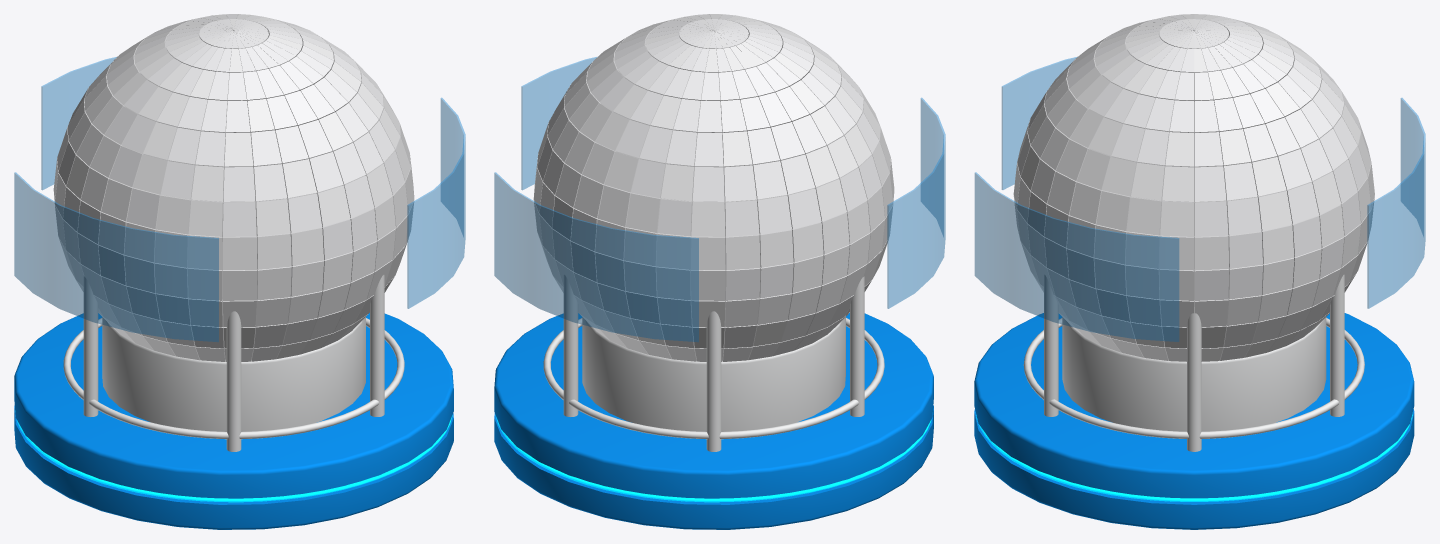
The picture shows the model from 3 angles, left to right: view 1: azimuth 30°, elevation 25°; view 2: azimuth 150°, elevation 25°; view 3: azimuth 270°, elevation 25°; orthographic projection.
Parts seen in each view (by area): view 1: 球体.001, 圆柱体.001, 圆柱体_4.001, 圆柱体_1.001, 克隆.001, 圆环面.001, 圆环面_1.001; view 2: 球体.001, 圆柱体.001, 圆柱体_4.001, 圆柱体_1.001, 克隆.001, 圆环面.001, 圆环面_1.001; view 3: 球体.001, 圆柱体.001, 圆柱体_4.001, 圆柱体_1.001, 克隆.001, 圆环面.001, 圆环面_1.001.
Part boxes in pixels (x1,y1,x2,y2): 球体.001: (53, 14, 414, 361); 圆柱体.001: (14, 313, 453, 529); 圆柱体_4.001: (14, 57, 465, 341); 圆柱体_1.001: (102, 317, 365, 431); 克隆.001: (83, 275, 384, 451); 圆环面.001: (63, 318, 404, 439); 圆环面_1.001: (15, 410, 452, 502); 球体.001: (533, 14, 894, 361); 圆柱体.001: (494, 313, 933, 529); 圆柱体_4.001: (494, 57, 945, 341); 圆柱体_1.001: (582, 317, 845, 431); 克隆.001: (563, 275, 864, 451); 圆环面.001: (543, 318, 884, 439); 圆环面_1.001: (495, 415, 931, 502); 球体.001: (1013, 14, 1374, 361); 圆柱体.001: (974, 313, 1414, 529); 圆柱体_4.001: (974, 57, 1425, 341); 圆柱体_1.001: (1062, 317, 1326, 431); 克隆.001: (1044, 274, 1344, 451); 圆环面.001: (1023, 318, 1364, 438); 圆环面_1.001: (975, 412, 1412, 501).
Bounding box in the file's own units: 0.9932 × 0.9634 × 0.9679.
Materials: 4 (4 with a texture image).
